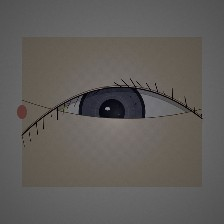pinguecula_lesion: (35, 90, 79, 125)
